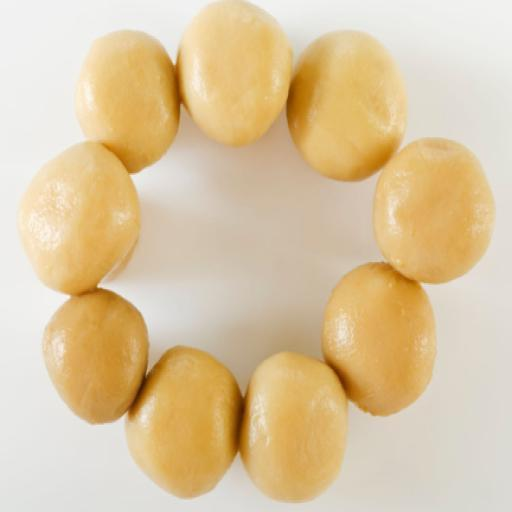mushroom: (290, 243, 471, 430), (101, 336, 273, 512), (0, 131, 168, 311), (43, 11, 214, 181), (359, 128, 509, 296), (277, 23, 416, 191), (165, 0, 303, 153), (233, 350, 353, 507), (35, 286, 158, 430)
